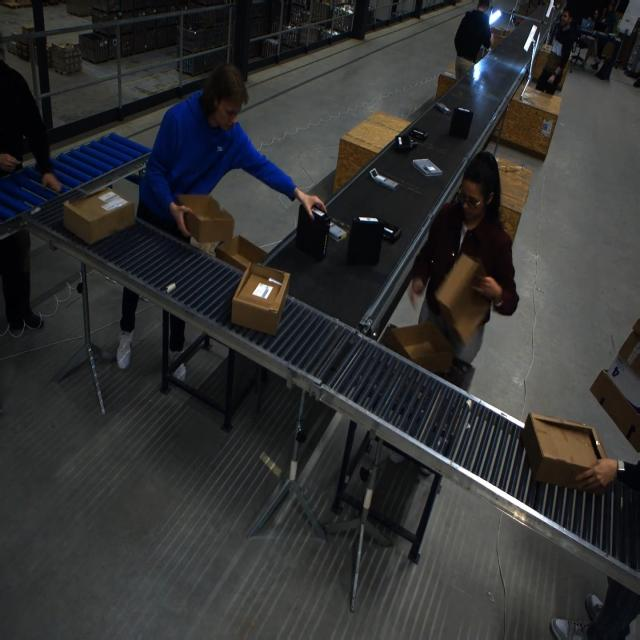box: (519, 414, 603, 491), (590, 322, 640, 446), (433, 254, 490, 345), (231, 263, 290, 335), (62, 189, 135, 246), (383, 320, 454, 375), (174, 194, 234, 247), (213, 234, 267, 275)
product: (295, 204, 330, 261), (346, 216, 382, 267), (448, 106, 473, 139), (367, 167, 397, 190), (412, 158, 442, 177), (381, 219, 401, 243), (394, 134, 416, 152), (328, 223, 347, 242), (410, 127, 428, 141), (434, 102, 451, 115)
